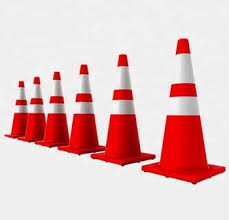cones: (144, 35, 227, 183), (97, 51, 156, 170), (63, 59, 104, 156), (36, 70, 70, 149), (24, 76, 50, 147), (7, 81, 28, 140)
